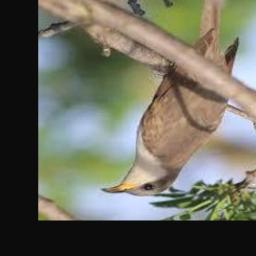Cuckoo: (101, 0, 239, 196)
